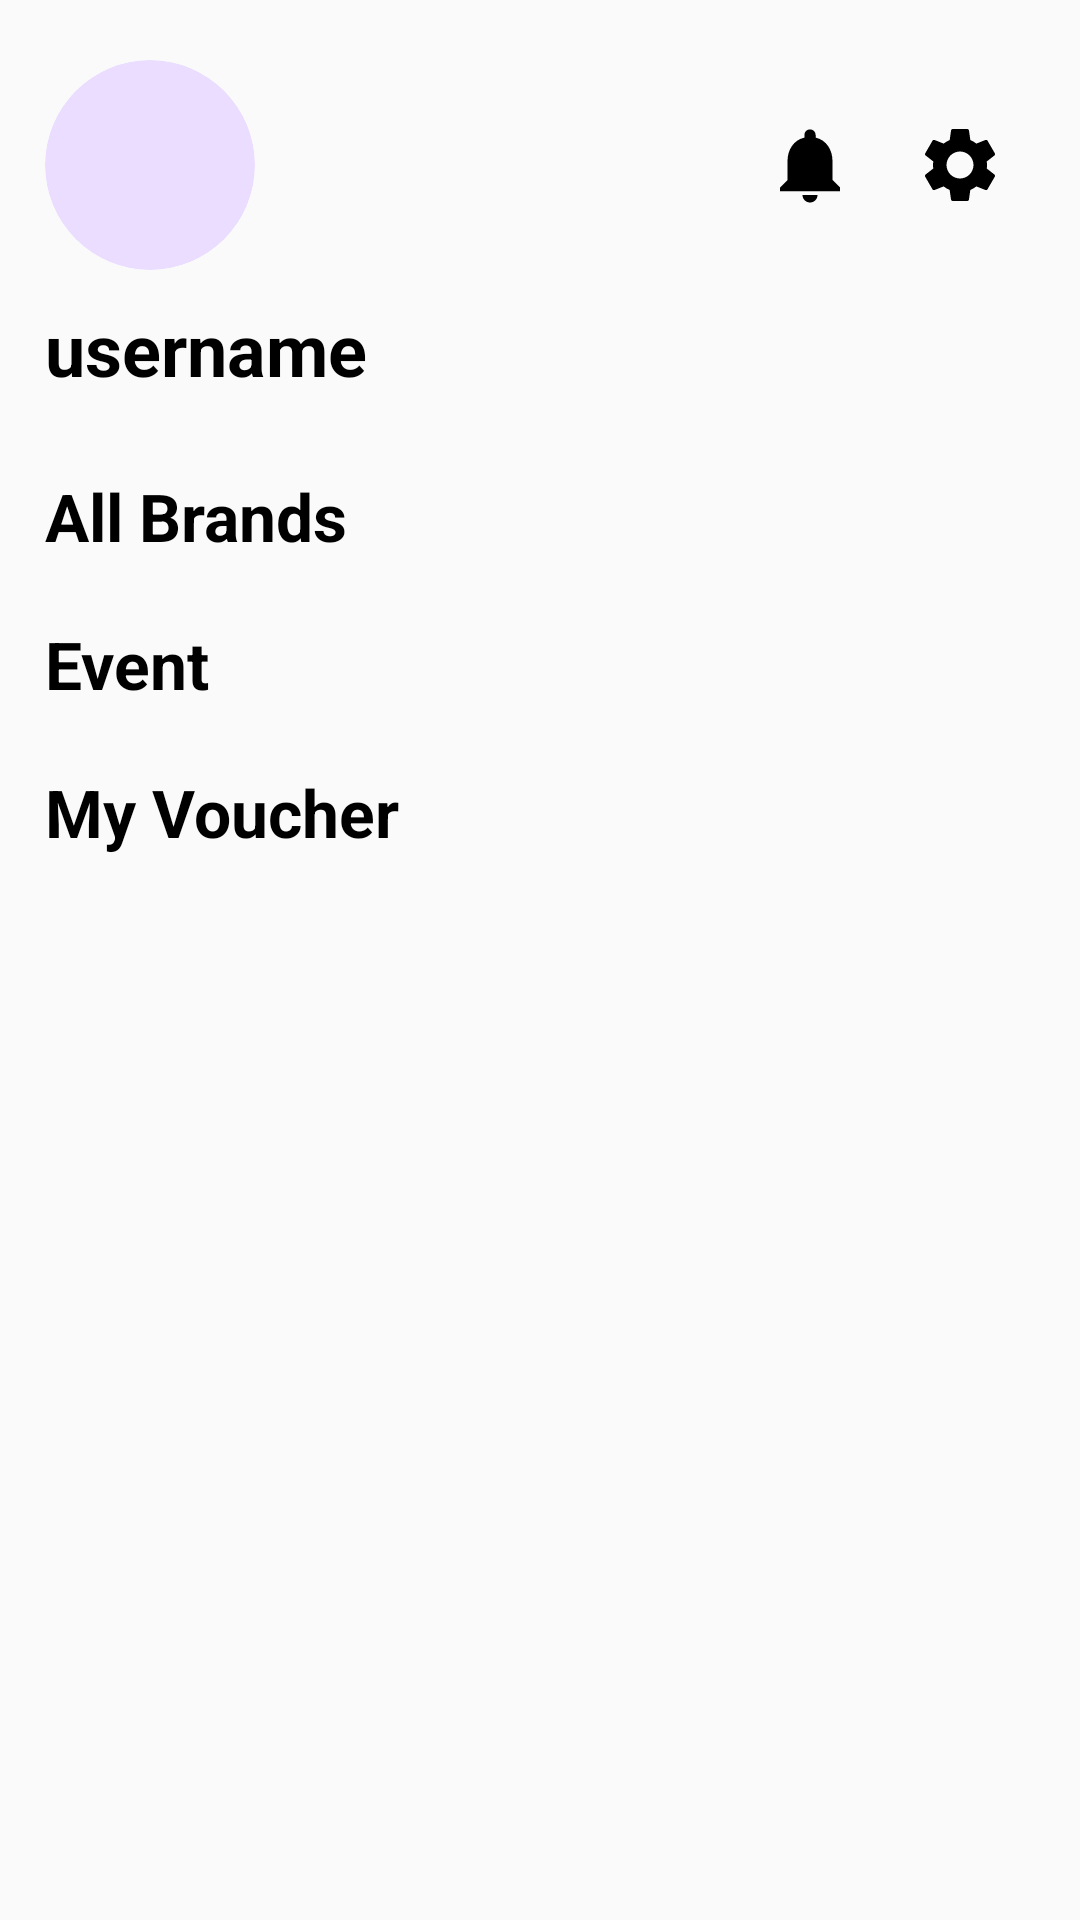

Icon bounding boxes for this 1080px x 1920px phone screenshot, format (x1, y1, x2, y2):
notifications: (780, 129, 840, 203)
settings: (925, 129, 995, 201)
